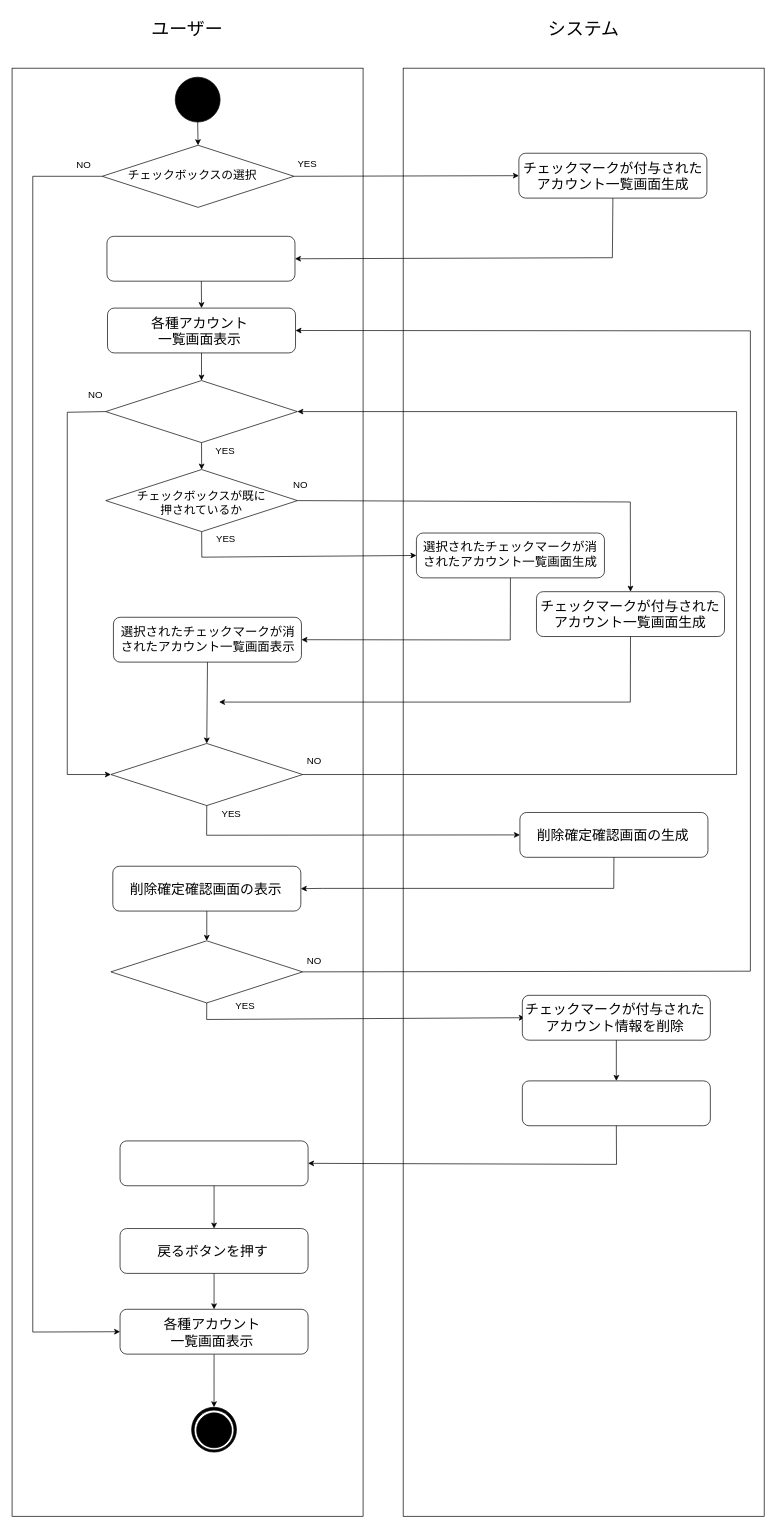
Image size: 776x1528. Some labels were removed from this diagram. The box of each missing label's shape, as (x1, y1, x2, y2) in pixels:
「削除」を押したか: (110, 940, 303, 1003)
チェックボックス選択: (105, 380, 297, 443)
チェックマークが付与された アカウント一覧画面表示: (106, 236, 295, 281)
削除完了画面の表示: (119, 1140, 308, 1186)
削除完了画面を生成: (522, 1080, 710, 1126)
消去ボタンを押したか: (110, 743, 303, 806)
